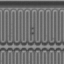dust: (30, 26, 35, 30), (31, 30, 34, 35)
